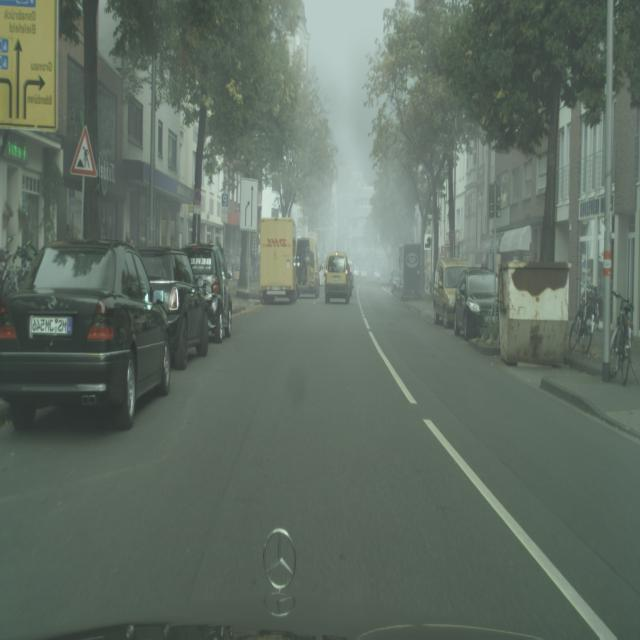car: (610, 290, 638, 387), (568, 286, 599, 356)
train: (260, 218, 299, 305), (295, 233, 321, 299)
truck: (0, 239, 172, 431), (138, 246, 209, 369), (182, 244, 233, 342), (453, 270, 497, 340), (432, 258, 470, 327), (324, 251, 353, 304), (391, 268, 401, 292)
